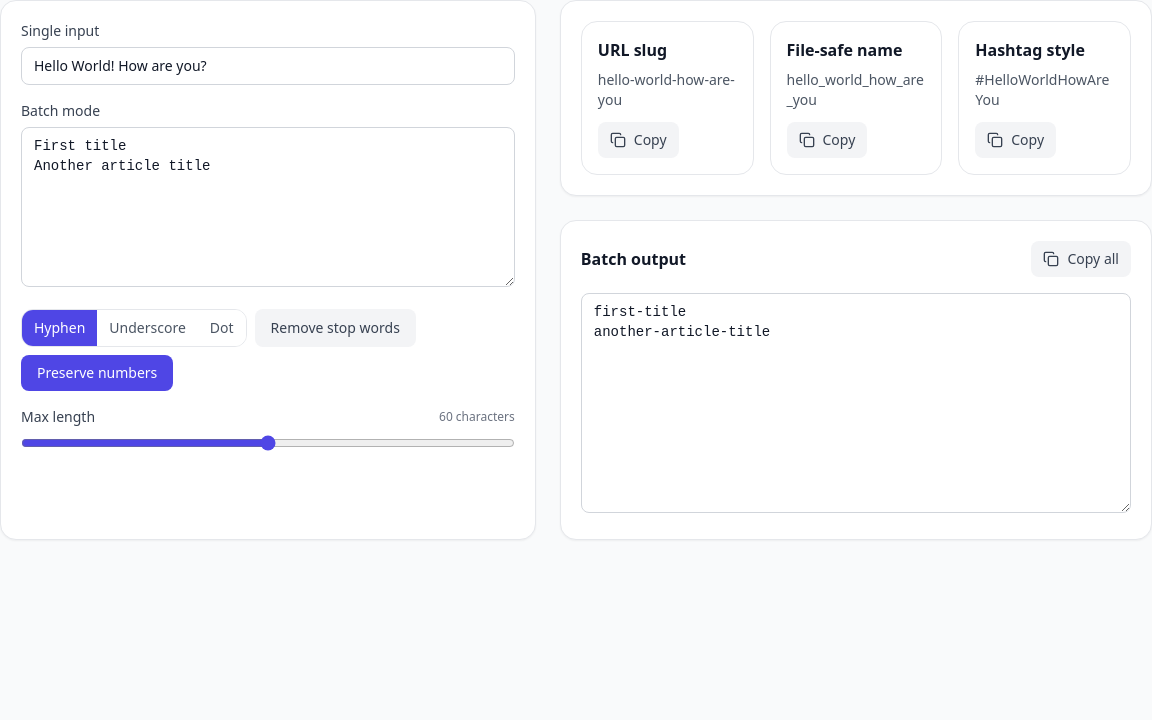
Scenario: TextToSlug – coverage › converts text to slug
Replace the text in the field with class "input-field" with "Hello World 2024!" at {"x": 268, "y": 66}, box [21, 47, 515, 85]
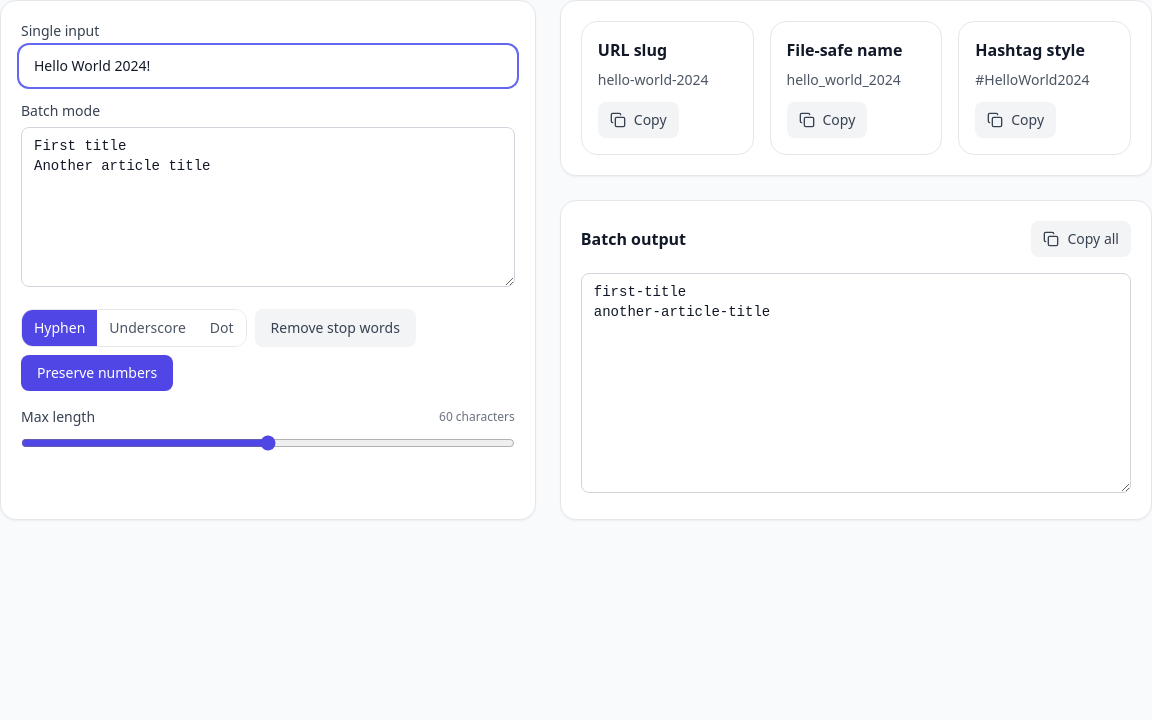
expect the text "hello-world" is shown: met, box [598, 70, 709, 89]
